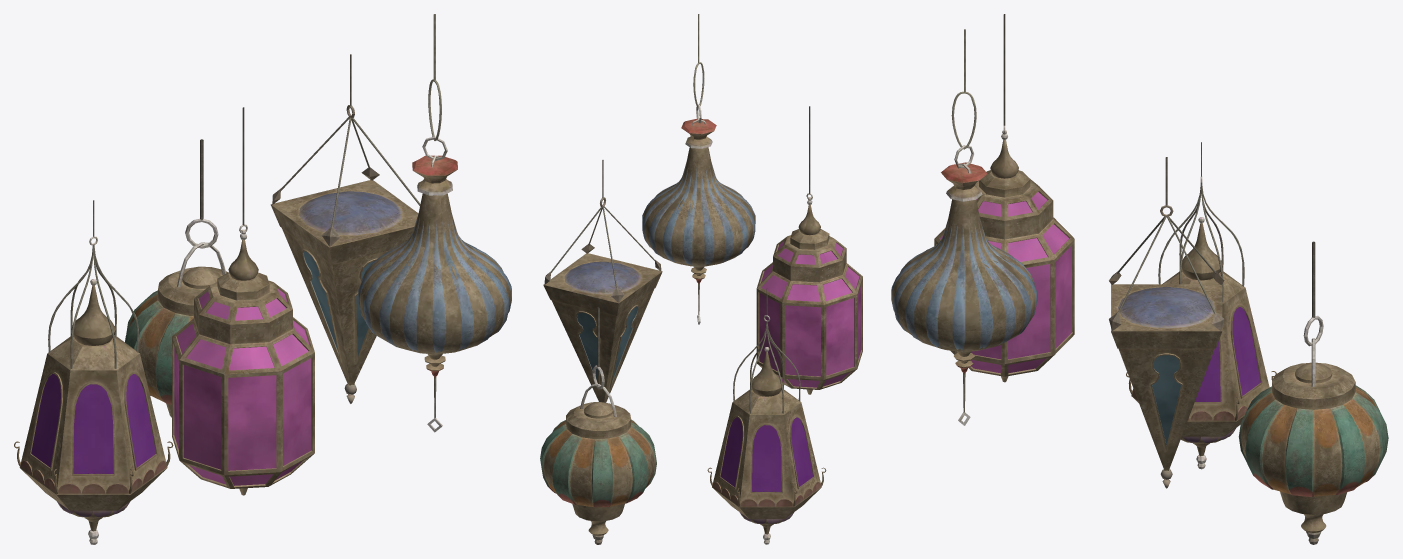
The model's file is hanging-lamps.glb.
The picture shows the model from 3 angles, left to right: view 1: azimuth 30°, elevation 25°; view 2: azimuth 150°, elevation 25°; view 3: azimuth 270°, elevation 25°; orthographic projection. The views are drawn at different scales.
Parts seen in each view (by area): view 1: lamp3_mesh_lamp_3_tex_0, lamp1_mesh_lamp1_tex_0, lamp2_mesh_lamp2_tex_0, lamp5_mesh_lamp5_tex_0, lamp4_mesh_lamp4_tex_0; view 2: lamp3_mesh_lamp_3_tex_0, lamp1_mesh_lamp1_tex_0, lamp4_mesh_lamp4_tex_0, lamp2_mesh_lamp2_tex_0, lamp5_mesh_lamp5_tex_0; view 3: lamp4_mesh_lamp4_tex_0, lamp2_mesh_lamp2_tex_0, lamp5_mesh_lamp5_tex_0, lamp3_mesh_lamp_3_tex_0, lamp1_mesh_lamp1_tex_0.
Boxes of the visible parts, x1,y1,x2,y2 form: lamp3_mesh_lamp_3_tex_0: (172,107,314,495); lamp1_mesh_lamp1_tex_0: (14,200,173,544); lamp2_mesh_lamp2_tex_0: (358,14,511,432); lamp5_mesh_lamp5_tex_0: (270,54,420,403); lamp4_mesh_lamp4_tex_0: (125,139,227,417); lamp3_mesh_lamp_3_tex_0: (756,106,862,394); lamp1_mesh_lamp1_tex_0: (707,288,826,544); lamp4_mesh_lamp4_tex_0: (540,307,656,544); lamp2_mesh_lamp2_tex_0: (642,14,755,324); lamp5_mesh_lamp5_tex_0: (543,160,662,402); lamp4_mesh_lamp4_tex_0: (1238,241,1388,544); lamp2_mesh_lamp2_tex_0: (891,29,1037,425); lamp5_mesh_lamp5_tex_0: (1109,157,1224,488); lamp3_mesh_lamp_3_tex_0: (934,14,1074,382); lamp1_mesh_lamp1_tex_0: (1126,142,1276,469).
Size of the model in its own units: 1.07 by 1.65 by 1.38.
Materials: 5 (5 with a texture image).
